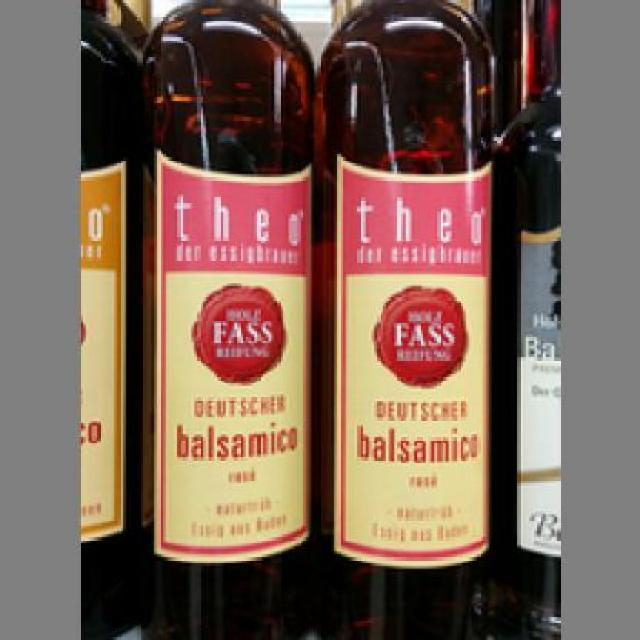Vinegar: (311, 0, 504, 637), (134, 0, 317, 637)
